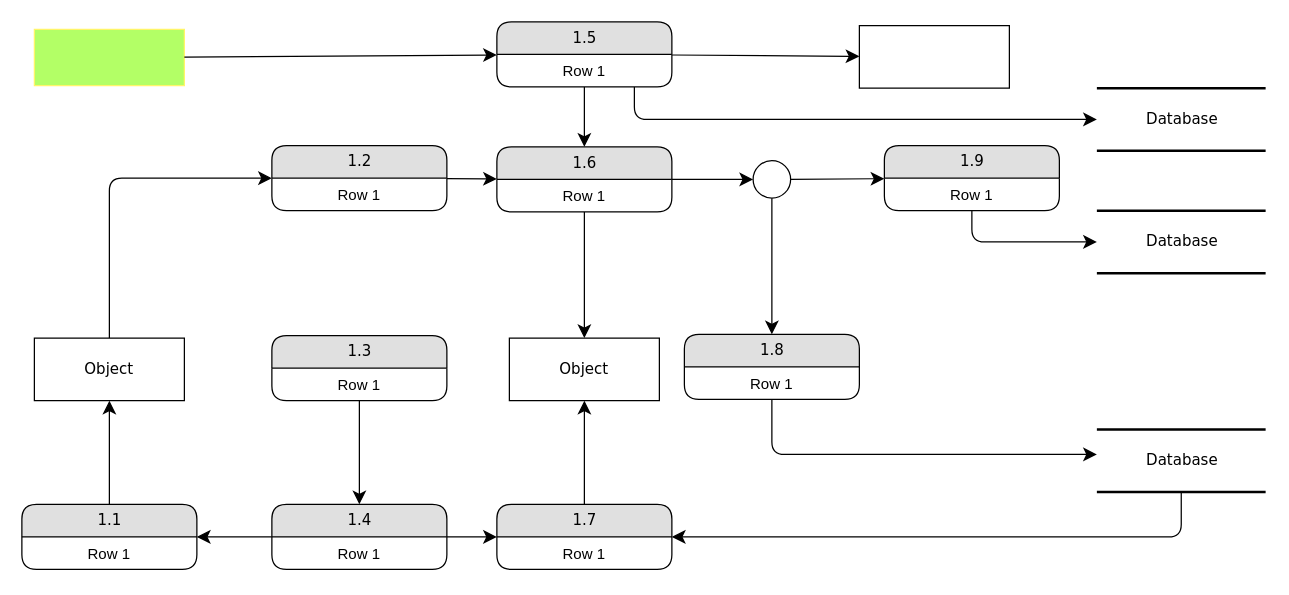
Image size: 1289x595. Some labels were removed from this diagram. Here are the shapes that lost their labels. From the top down, the centre of each, then its label:
At (108,57): "START".
At (933,56): "Output".
